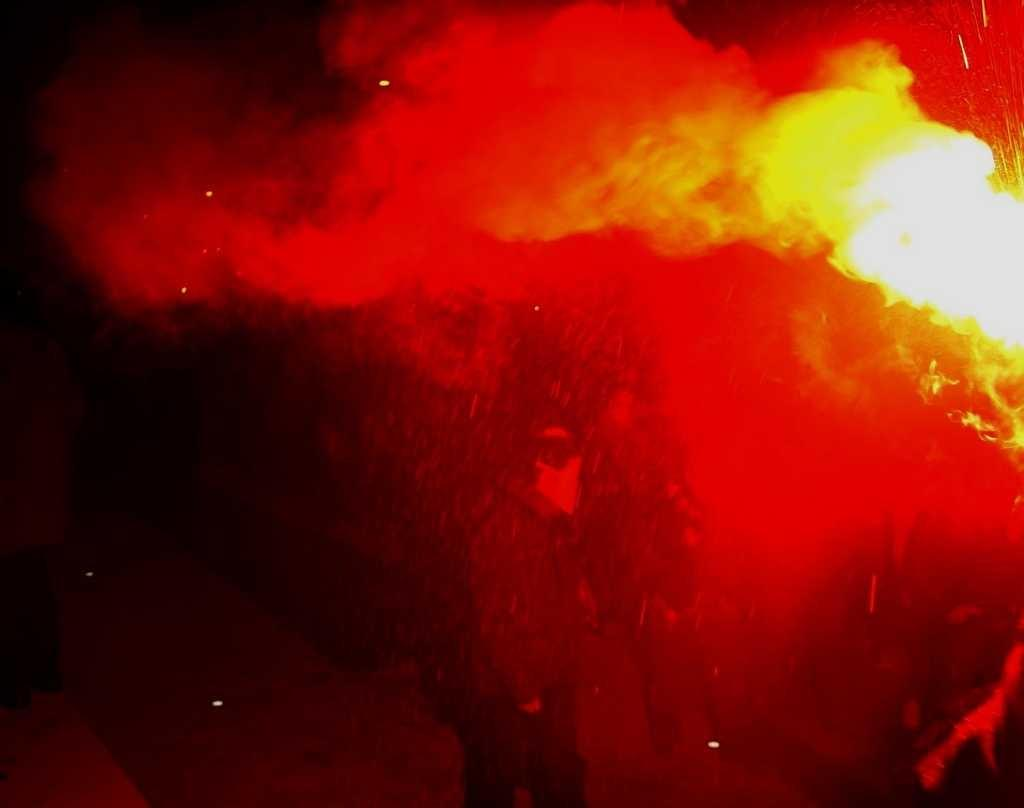fire: (864, 143, 1004, 299)
